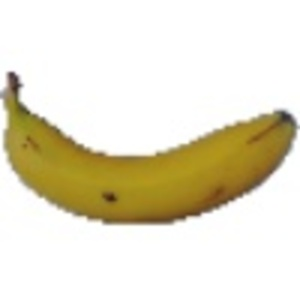banana: (1, 63, 299, 234)
